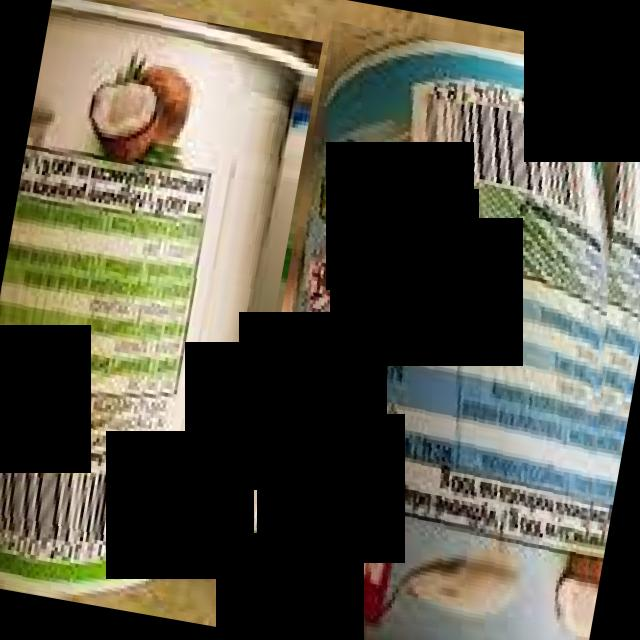yogurt: (225, 20, 640, 640), (0, 0, 322, 627)
